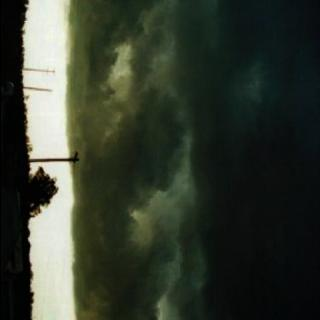Stratocumulus: (53, 0, 320, 320)
